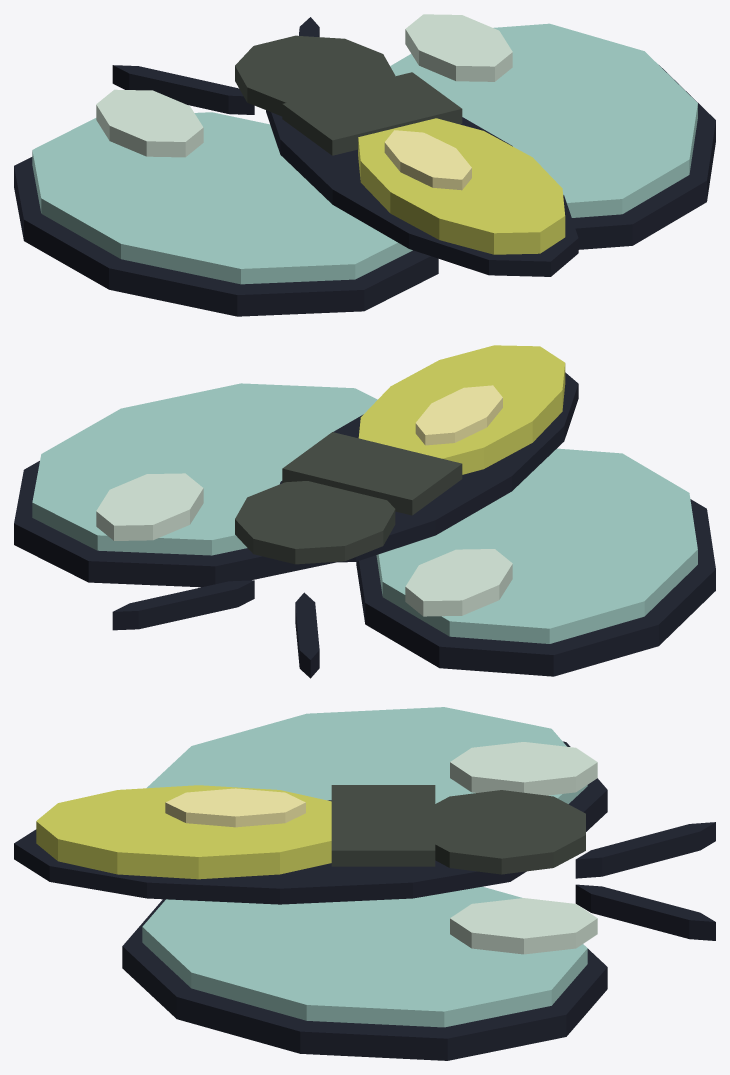
File: firefly.fbx
The picture shows the model from 3 angles, top to bottom: view 1: azimuth 30°, elevation 25°; view 2: azimuth 150°, elevation 25°; view 3: azimuth 270°, elevation 25°; orthographic projection. The views are drawn at different scales.
Parts seen in each view (by area): view 1: firefly; view 2: firefly; view 3: firefly.
Part boxes in pixels (bbox=[...]): firefly: bbox=[14, 14, 715, 316]; firefly: bbox=[14, 345, 715, 678]; firefly: bbox=[14, 707, 715, 1060].
Bounding box in the file's own units: 1.08 × 0.142 × 0.9995.
Materials: 1 (1 with a texture image).
